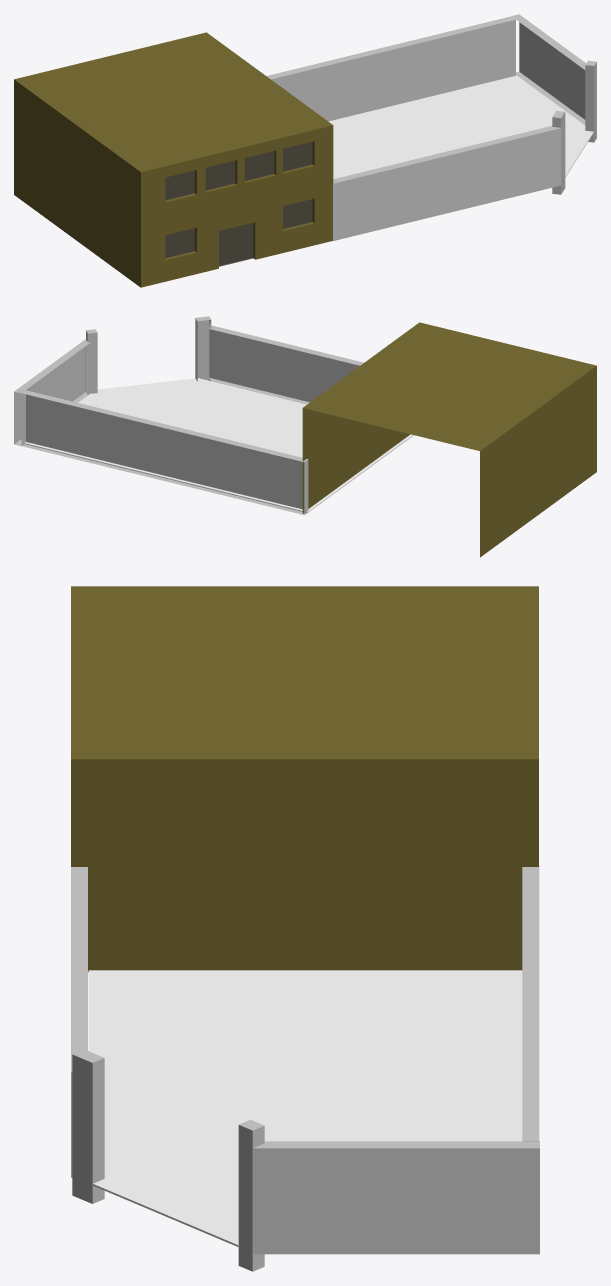
File: edificio 1.fbx
The picture shows the model from 3 angles, top to bottom: view 1: azimuth 30°, elevation 25°; view 2: azimuth 150°, elevation 25°; view 3: azimuth 270°, elevation 25°; orthographic projection. The views are drawn at different scales.
Visible parts, largest first — view 1: BASE, Muro + Puertas, Suelo2, Ventanas y Puertas; view 2: BASE, Muro + Puertas, Suelo2; view 3: BASE, Suelo2, Muro + Puertas.
Part boxes in pixels (x1,y1,x2,y2): BASE: (14, 32, 333, 287); Muro + Puertas: (266, 14, 596, 240); Suelo2: (328, 75, 593, 178); Ventanas y Puertas: (165, 141, 312, 266); BASE: (302, 322, 596, 557); Muro + Puertas: (14, 316, 363, 514); Suelo2: (24, 378, 413, 512); BASE: (71, 586, 538, 972); Suelo2: (88, 970, 522, 1247); Muro + Puertas: (71, 865, 539, 1271).
Bounding box in the file's own units: 1382 × 328 × 602.
